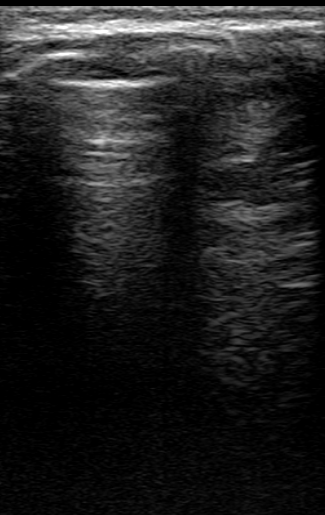irrelevant: (1, 1, 325, 33)
